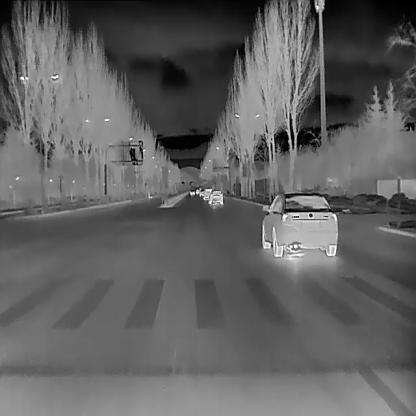car: (259, 190, 338, 257), (207, 188, 223, 204), (202, 186, 212, 199), (198, 188, 204, 196), (188, 189, 194, 195), (195, 188, 199, 193)
